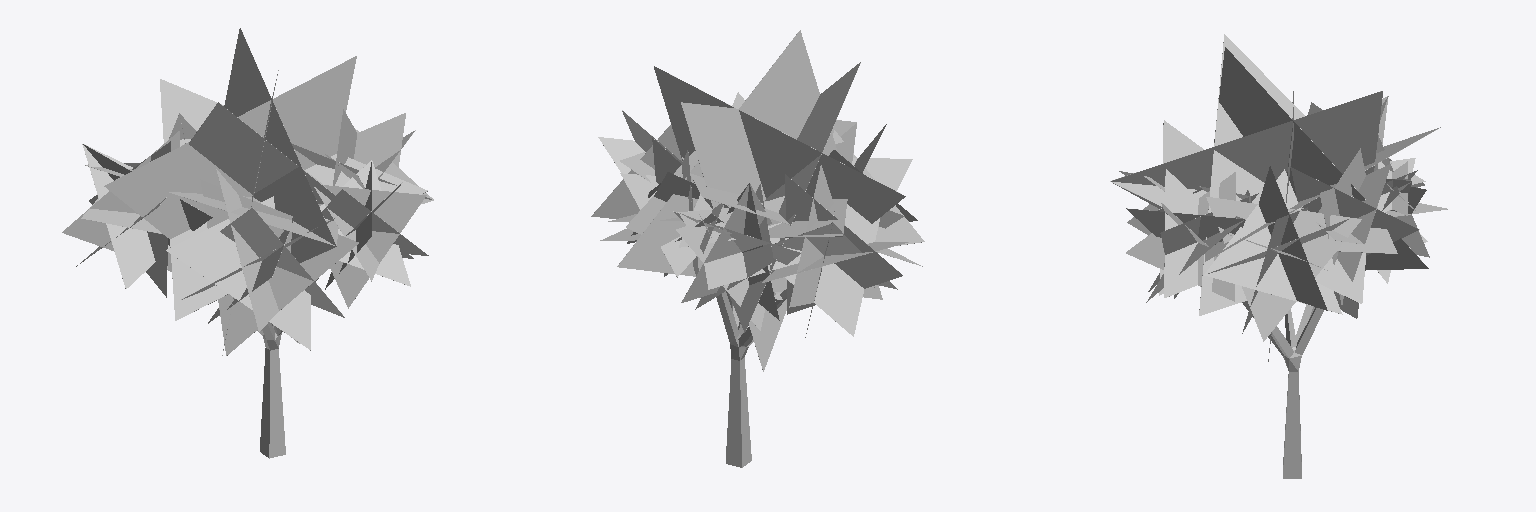
Rendered from RhodeTreeBig.obj.
The picture shows the model from 3 angles: view 1: azimuth 30°, elevation 25°; view 2: azimuth 150°, elevation 25°; view 3: azimuth 270°, elevation 25°; orthographic projection.
Parts seen in each view (by area): view 1: SmallTree.003_Cube.023; view 2: SmallTree.003_Cube.023; view 3: SmallTree.003_Cube.023.
Part boxes in pixels (x1,y1,x2,y2): SmallTree.003_Cube.023: (62, 28, 433, 458); SmallTree.003_Cube.023: (591, 30, 924, 467); SmallTree.003_Cube.023: (1110, 34, 1447, 478).
Bounding box in the file's own units: 46.22 × 55.49 × 41.23.